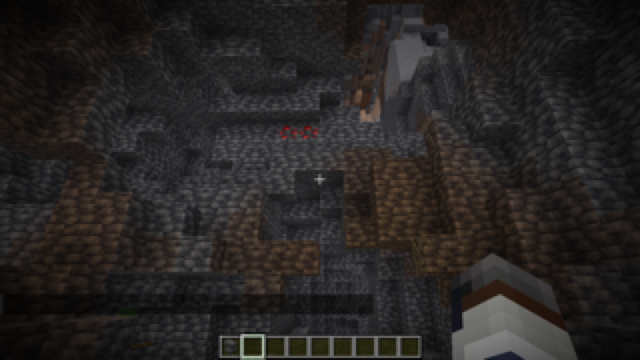redstone: (278, 120, 323, 144)
